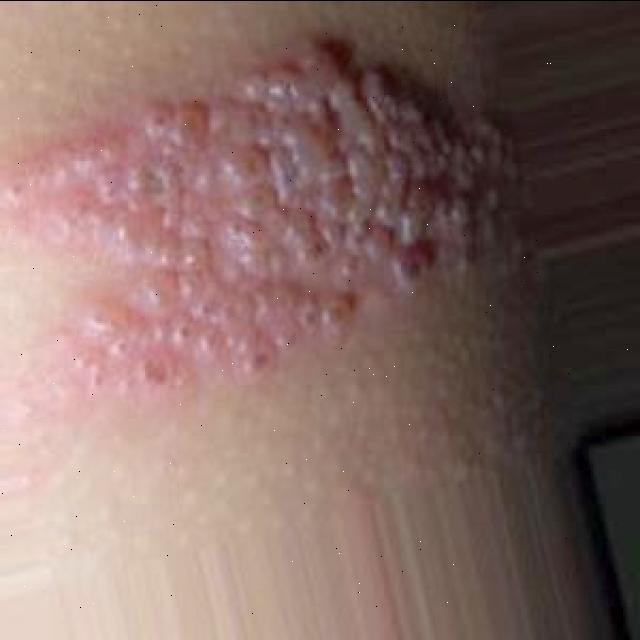Shingles: (14, 36, 507, 399)
